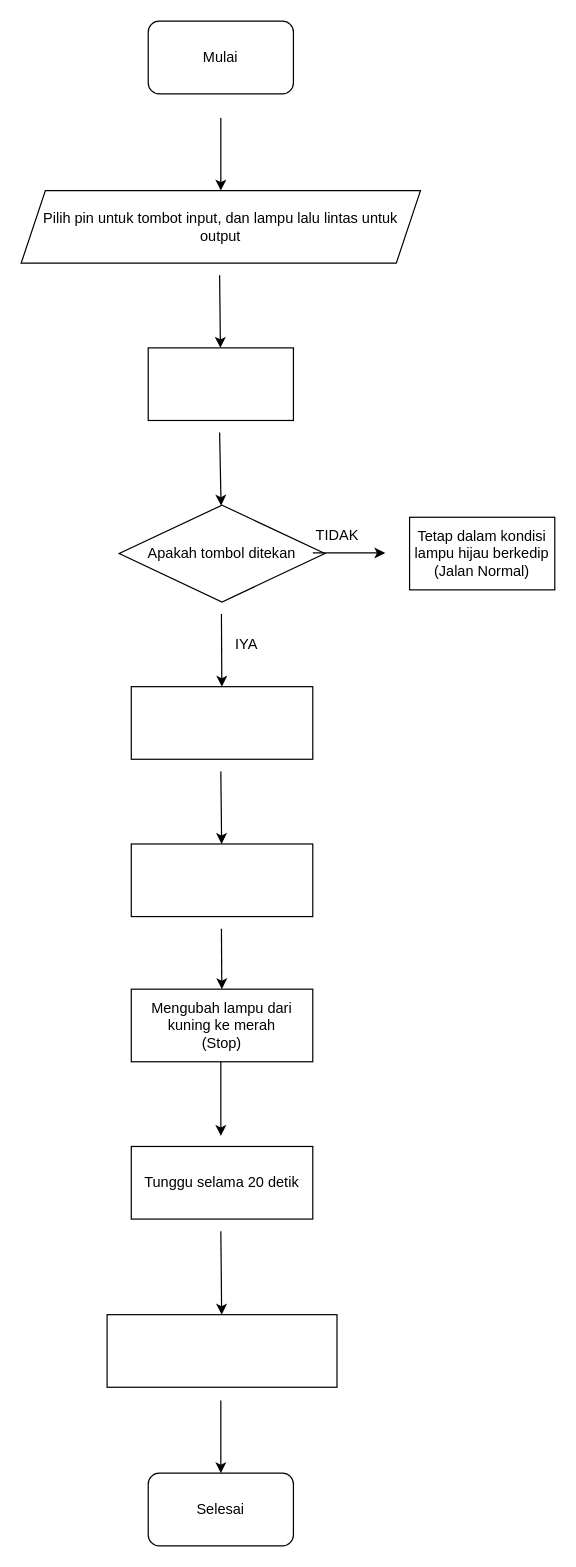
The diagram is 576 pixels wide and 1567 high, and some of its shapes have lost their labels. The centre of each missing label's shape, as x and y in pixels:
Baca status tombol (apakah tombol ditekan atau tidak): [220,383]
Kembali ke langkah 4 ( Kembali ke Hijau ): [221,1350]
Mengubah lampu dari kuning ke merah (Tunggu): [221,722]
Tunggu selama 2 detik: [221,880]
